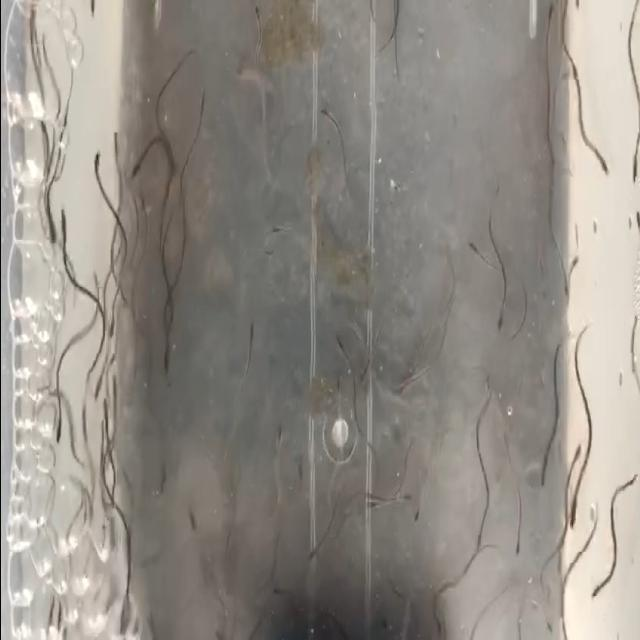active_glass_eel: (529, 456, 558, 518), (46, 396, 64, 464), (506, 525, 532, 572), (585, 564, 607, 616), (489, 296, 515, 340), (564, 498, 586, 548), (460, 234, 482, 284), (469, 518, 488, 574), (568, 432, 588, 484), (236, 302, 258, 348), (328, 322, 353, 362), (594, 144, 612, 199), (126, 146, 148, 190), (395, 476, 415, 523), (538, 1, 562, 38), (354, 351, 372, 399), (38, 216, 62, 252), (404, 501, 424, 543), (105, 119, 122, 168), (156, 349, 180, 382), (556, 268, 570, 324), (302, 540, 320, 582), (184, 498, 202, 538), (315, 98, 333, 136), (21, 1, 39, 37), (153, 460, 170, 498), (290, 455, 304, 501), (329, 364, 345, 404), (96, 389, 116, 421), (54, 210, 70, 250), (270, 414, 286, 452), (87, 262, 103, 300), (568, 247, 584, 284), (430, 603, 446, 640), (625, 149, 640, 188), (133, 195, 151, 225), (89, 143, 102, 184), (246, 1, 266, 27), (628, 202, 640, 242), (88, 374, 102, 408), (266, 582, 284, 608), (100, 320, 118, 346), (34, 114, 48, 146), (120, 521, 134, 552), (273, 220, 289, 245), (81, 0, 97, 24), (106, 350, 118, 380)
